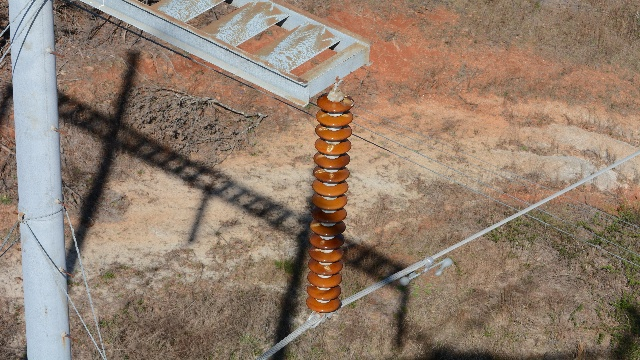insulator_unspecified: (306, 93, 355, 313)
pollution_flashover_local: (341, 97, 354, 107), (326, 144, 334, 154), (324, 266, 334, 274), (310, 222, 322, 228), (313, 168, 326, 173), (317, 112, 327, 118), (314, 153, 324, 159), (318, 127, 329, 132), (310, 248, 320, 253), (329, 172, 335, 180), (320, 238, 326, 245), (342, 113, 350, 118)
